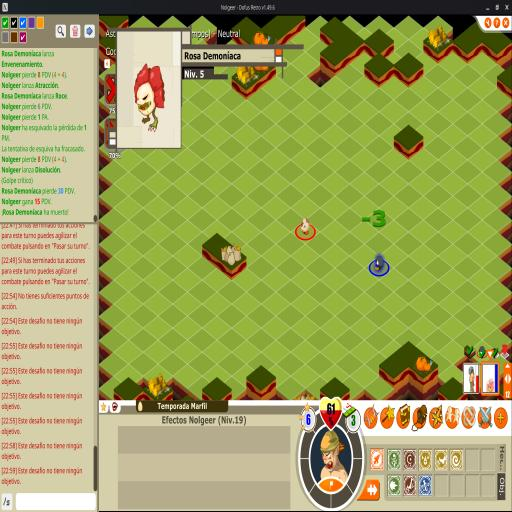Enemigos: (374, 255, 385, 271)
Personaje: (300, 218, 310, 235)
